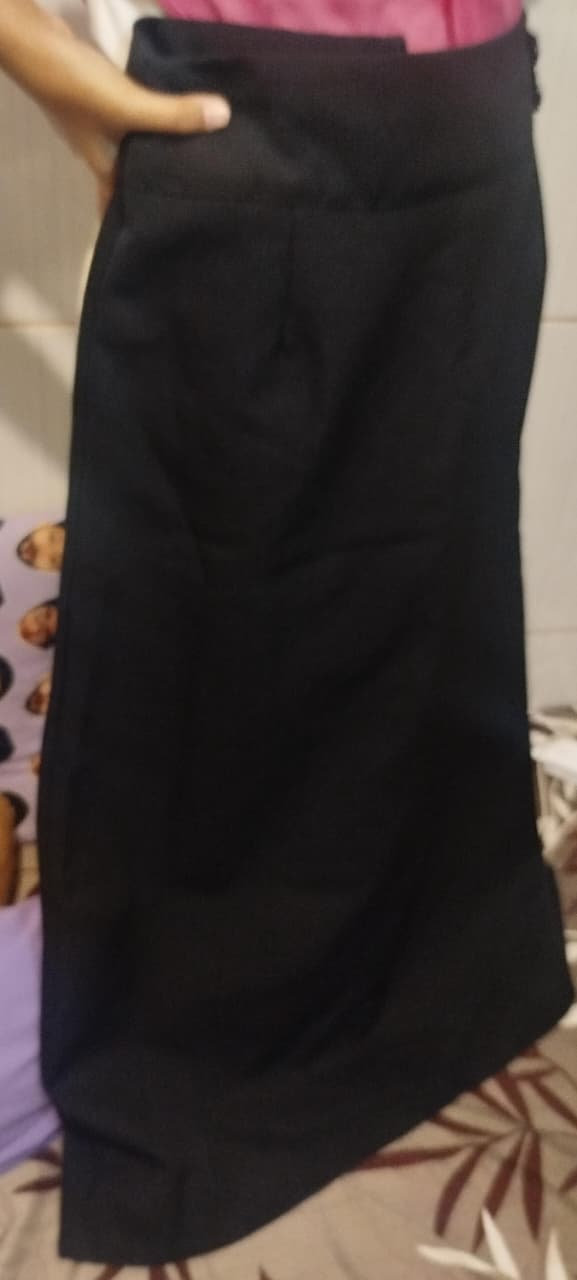rok_benar: (121, 30, 543, 990)
